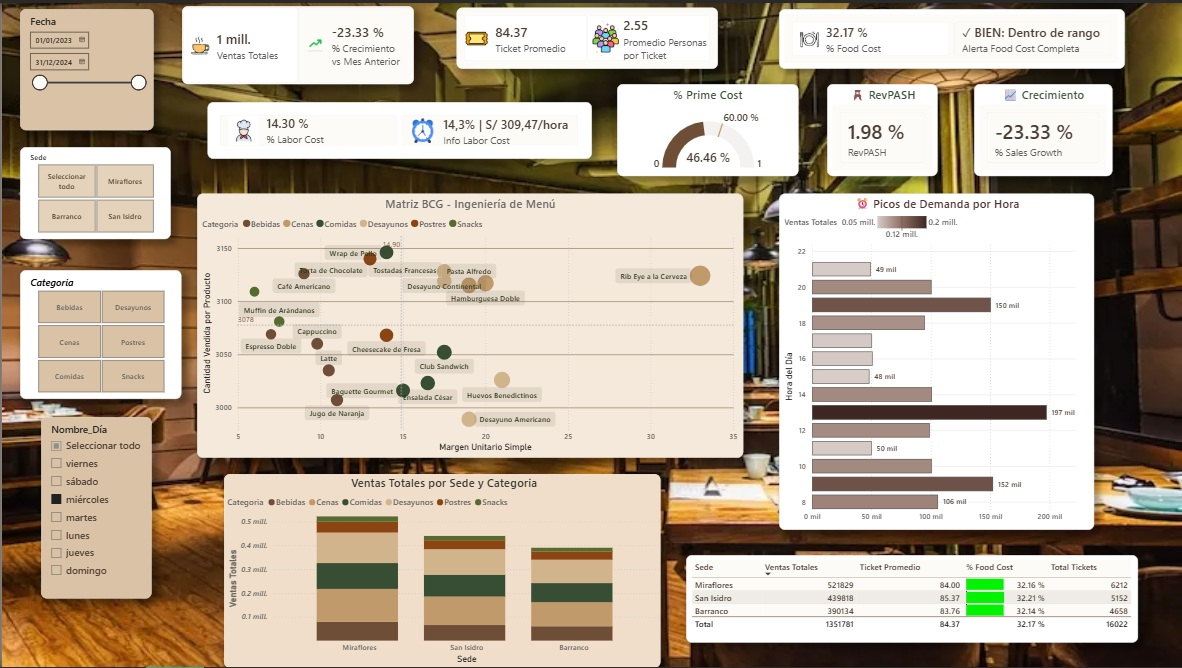

The dashboard page shown, as its layout file describes it:
{"tool":"powerbi","page":{"name":"Control de Gestión","canvas":[1920,1080],"ordinal":0},"visuals":[{"type":"card","fields":{"Values":["_Medidas.% Food Cost"]},"box":[873.3,11.7,160,75],"z":0},{"type":"scatterChart","title":"Matriz BCG - Ingeniería de Menú","fields":{"Category":["Dim_Productos.Nombre_Producto"],"Series":["Dim_Productos.Categoria"],"Size":["_Medidas.Ventas Totales"],"X":["_Medidas.Margen Unitario Simple"],"Y":["_Medidas.Cantidad Vendida por Producto"]},"box":[318.3,310,888.3,430],"z":1000},{"type":"clusteredBarChart","title":"⏰ Picos de Demanda por Hora","fields":{"Category":["Fact_Tickets.Hora_Agrupada"],"Y":["_Medidas.Ventas Totales"]},"box":[1265,310,512.5,547.5],"z":2000},{"type":"columnChart","fields":{"Category":["Fact_Tickets.Sede"],"Series":["Dim_Productos.Categoria"],"Y":["_Medidas.Ventas Totales"]},"box":[360,765,710,315],"z":3000},{"type":"tableEx","fields":{"Values":["Fact_Tickets.Sede","_Medidas.Ventas Totales","_Medidas.Ticket Promedio","_Medidas.% Food Cost","_Medidas.Total Tickets"]},"box":[1112.5,897.5,735,142.5],"z":4000},{"type":"slicer","fields":{"Values":["Fact_Tickets.Sede"]},"box":[30,235,245,150],"z":5000},{"type":"slicer","fields":{"Values":["Dim_Productos.Categoria"]},"box":[30,435,262.5,210],"z":6000},{"type":"slicer","fields":{"Values":["Dim_Calendario.Nombre_Día"]},"box":[63.3,673.3,180,295],"z":7000},{"type":"slicer","fields":{"Values":["Fact_Tickets.Fecha"]},"box":[30,10,217.5,197.5],"z":8000},{"type":"cardVisual","fields":{"Data":["_Medidas.Ventas Totales","_Medidas.% Crecimiento vs Mes Anterior"]},"box":[292.5,5,377.5,127.5],"z":9000},{"type":"cardVisual","fields":{"Data":["_Medidas.Ticket Promedio","_Medidas.Promedio Personas por Ticket"]},"box":[740,7.5,425,100],"z":10000},{"type":"cardVisual","fields":{"Data":["_Medidas.% Labor Cost","_Medidas.Info Labor Cost"]},"box":[335,160,625,92.5],"z":11000},{"type":"cardVisual","fields":{"Data":["_Medidas.% Food Cost","_Medidas.Alerta Food Cost Completa"]},"box":[1265,10,562.5,97.5],"z":12000},{"type":"gauge","title":"% Prime Cost","fields":{"MaxValue":["_Medidas.Maximo Prime Cost"],"MinValue":["_Medidas.Minimo Prime Cost"],"TargetValue":["_Medidas.Objetivo Prime Cost"],"Y":["_Medidas.% Prime Cost"]},"box":[1000,132.5,295,150],"z":13000},{"type":"cardVisual","title":"📈 Crecimiento","fields":{"Data":["_Medidas.% Sales Growth"]},"box":[1580,132.5,225,150],"z":14000},{"type":"cardVisual","title":"🪑 RevPASH","fields":{"Data":["_Medidas.RevPASH"]},"box":[1342.5,132.5,180,150],"z":15000}]}

Visuals, with their boxes in screenshot pixels (x1, y1, x2, y2), scaled from the page's 1920x1080 canvas onto the 1182x668 screenshot:
card - _Medidas.% Food Cost: [538,7,636,54]
"Matriz BCG - Ingeniería de Menú" scatterChart: [196,192,743,458]
"⏰ Picos de Demanda por Hora" clusteredBarChart: [779,192,1094,530]
columnChart - Fact_Tickets.Sede x Dim_Productos.Categoria: [222,473,659,667]
tableEx - Fact_Tickets.Sede x _Medidas.Ventas Totales: [685,555,1137,643]
slicer - Fact_Tickets.Sede: [18,145,169,238]
slicer - Dim_Productos.Categoria: [18,269,180,399]
slicer - Dim_Calendario.Nombre_Día: [39,416,150,599]
slicer - Fact_Tickets.Fecha: [18,6,152,128]
cardVisual - _Medidas.Ventas Totales x _Medidas.% Crecimiento vs Mes Anterior: [180,3,412,82]
cardVisual - _Medidas.Ticket Promedio x _Medidas.Promedio Personas por Ticket: [456,5,717,66]
cardVisual - _Medidas.% Labor Cost x _Medidas.Info Labor Cost: [206,99,591,156]
cardVisual - _Medidas.% Food Cost x _Medidas.Alerta Food Cost Completa: [779,6,1125,66]
"% Prime Cost" gauge: [616,82,797,175]
"📈 Crecimiento" cardVisual: [973,82,1111,175]
"🪑 RevPASH" cardVisual: [826,82,937,175]
